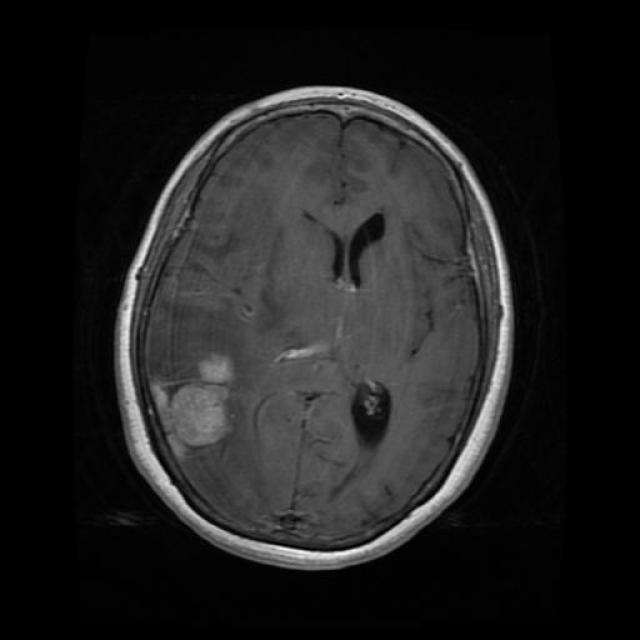meningioma: (169, 381, 225, 449), (200, 359, 231, 384)
